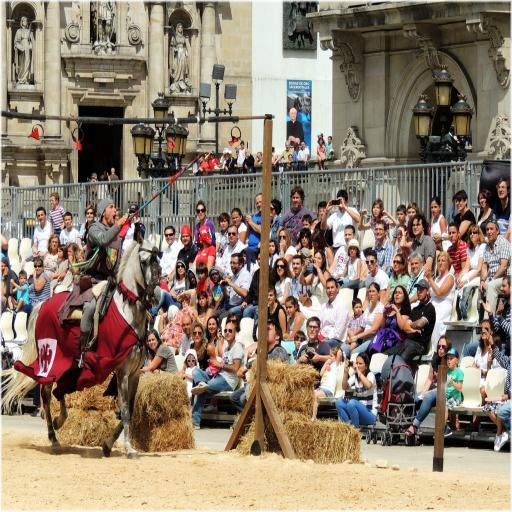horse: (0, 234, 162, 457)
